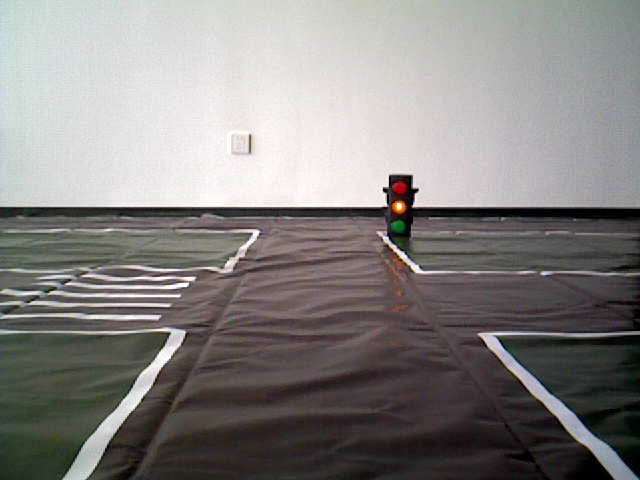yellow: (388, 171, 412, 235)
